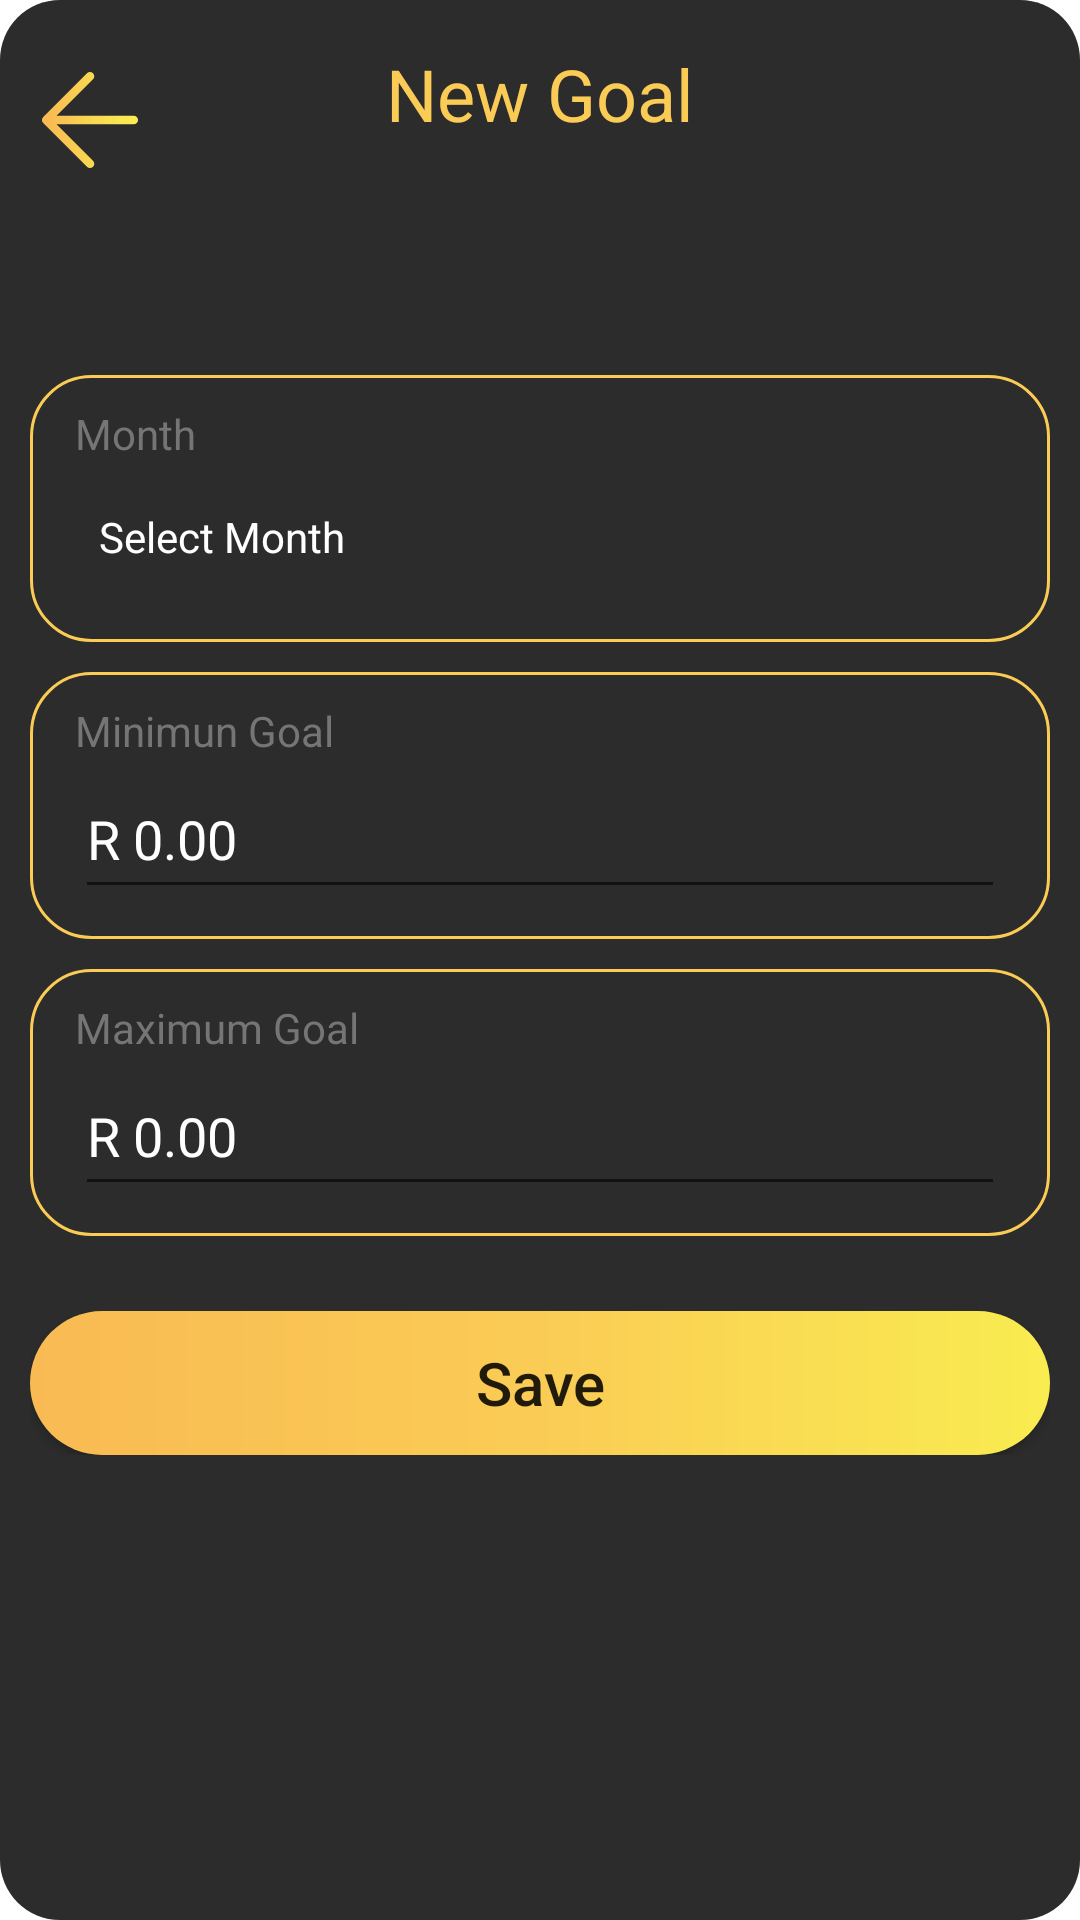

Where to tap for icons on this 1080 × 1920 app screen, as (x=x, y=y):
Back: (x=90, y=120)
